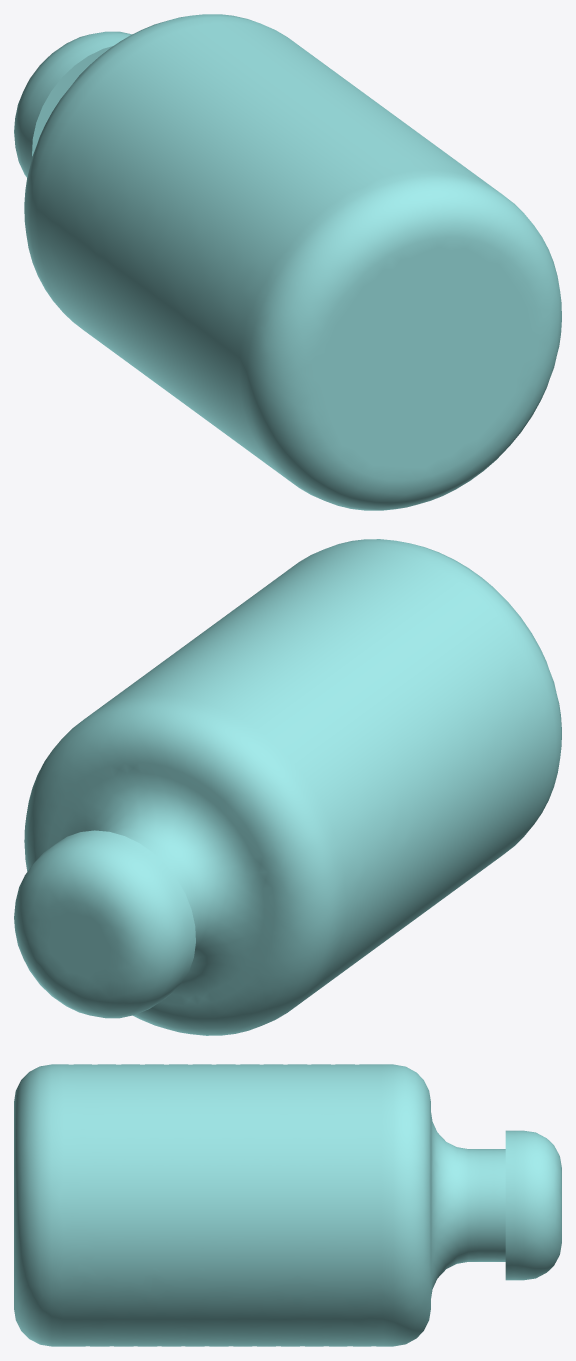
Rendered from botella.fbx.
3 views of the same model, one above another, from view 1: azimuth 30°, elevation 25°; view 2: azimuth 150°, elevation 25°; view 3: azimuth 270°, elevation 25° (orthographic). The views are drawn at different scales.
Visible parts, largest first — view 1: Cubo; view 2: Cubo; view 3: Cubo.
Part boxes in pixels (x1,y1,x2,y2): Cubo: (14, 14, 561, 510); Cubo: (14, 539, 561, 1035); Cubo: (14, 1064, 561, 1346).
Bounding box in the file's own units: 74.94 × 74.95 × 146.
